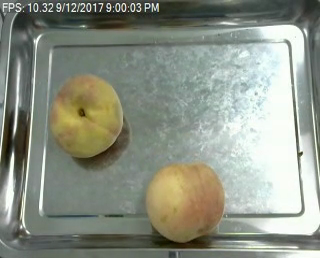Peach: (146, 160, 225, 243), (49, 73, 124, 157)
